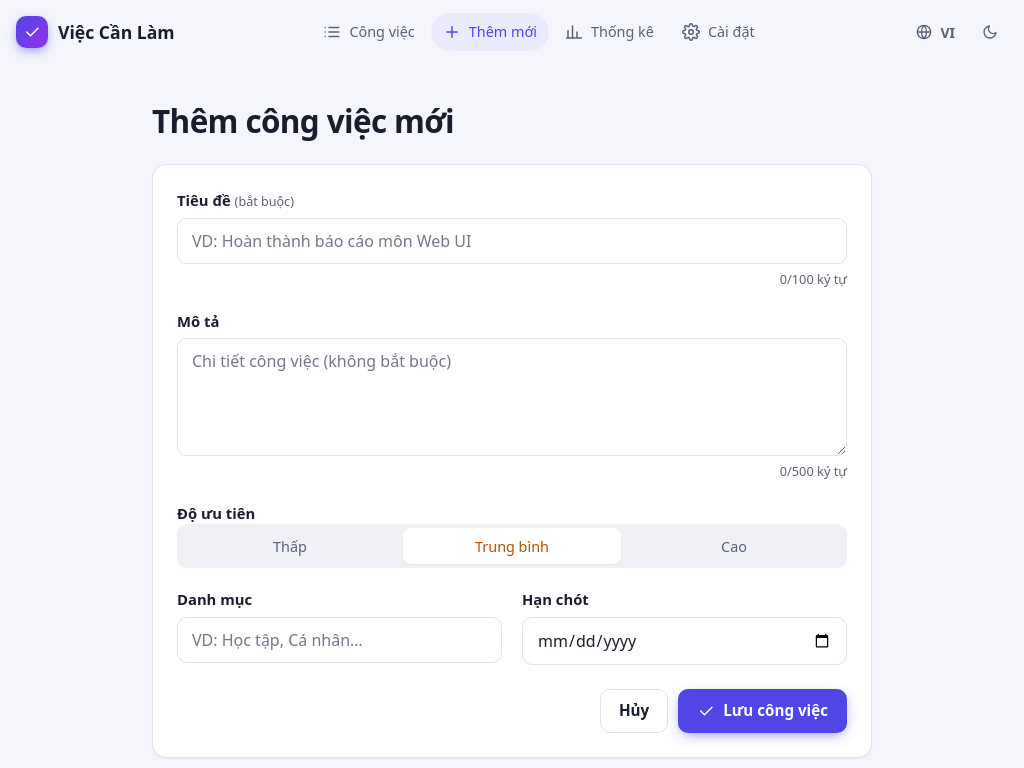
Test: Todo App (UI) › form thêm mới hiển thị lỗi khi submit trống
Click the button "Lưu công việc" at (763, 711), box top-left (678, 689), bottom-right (847, 733)
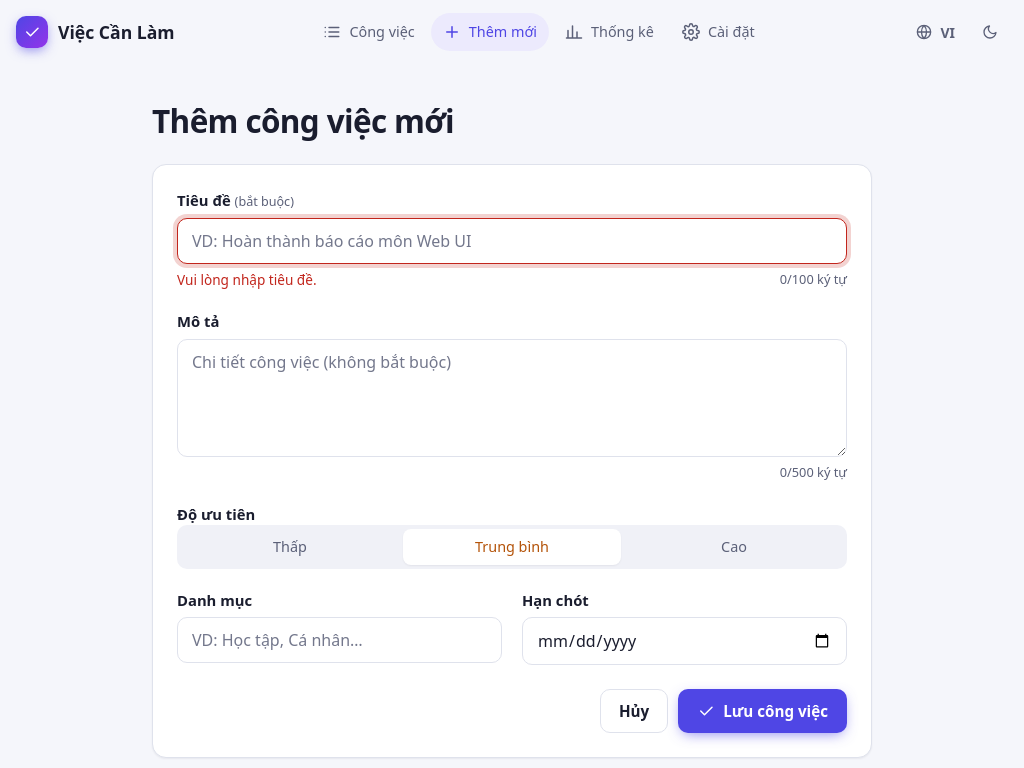
Result: the text "Vui lòng nhập tiêu đề." is shown at top-left (177, 270), bottom-right (316, 290)
